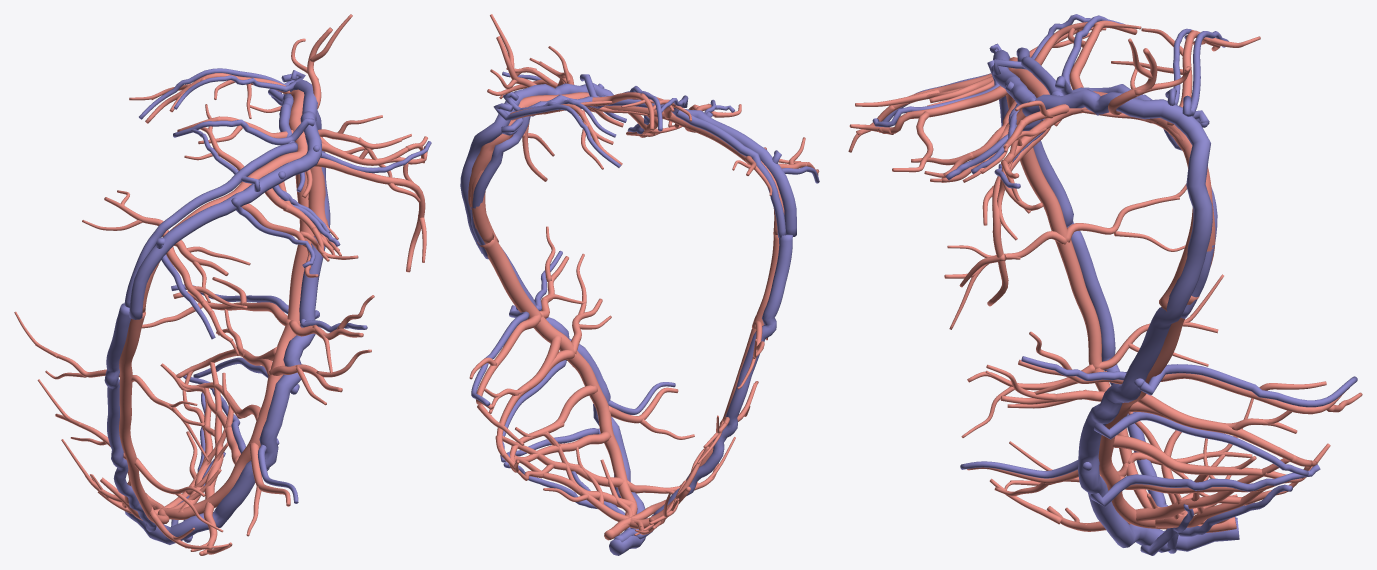
File: vessels_46.glb
The picture shows the model from 3 angles, left to right: view 1: azimuth 30°, elevation 25°; view 2: azimuth 150°, elevation 25°; view 3: azimuth 270°, elevation 25°; orthographic projection. The views are drawn at different scales.
Parts seen in each view (by area): view 1: Renderer Node; view 2: Renderer Node; view 3: Renderer Node.
Part boxes in pixels (<box>): Renderer Node: <box>14,14,431,555</box>; Renderer Node: <box>460,14,819,555</box>; Renderer Node: <box>848,14,1362,555</box>.
Bounding box in the file's own units: 87.57 × 120 × 91.01.
